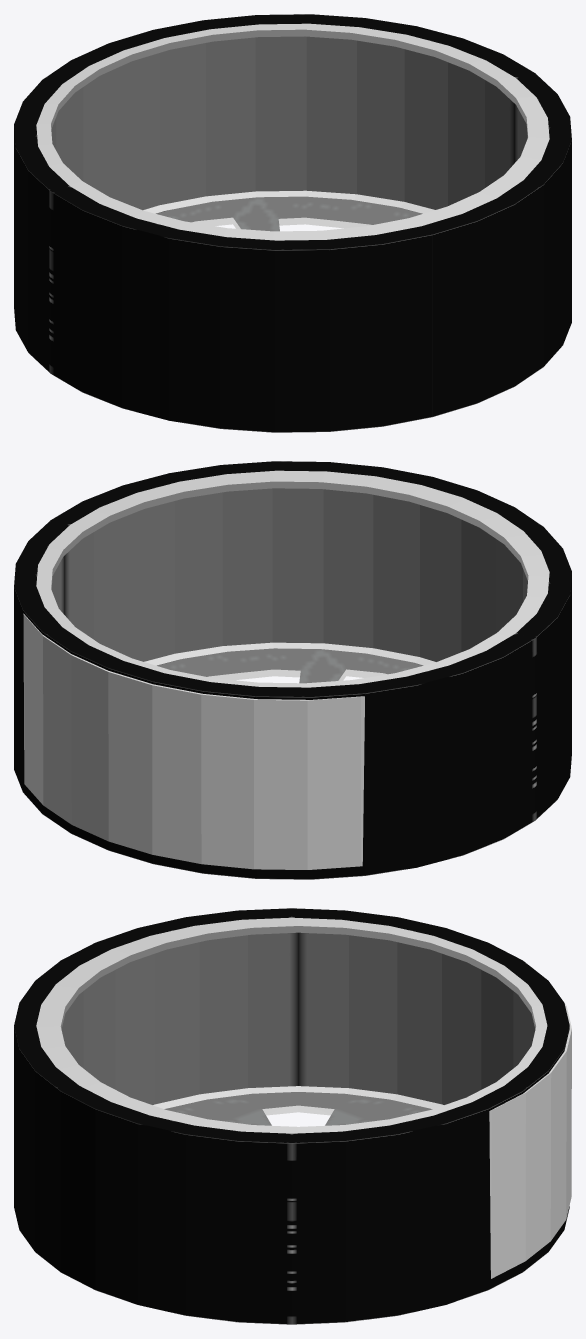
File: Picanto-tire.fbx
3 renders of one model, top to bottom at view 1: azimuth 30°, elevation 25°; view 2: azimuth 150°, elevation 25°; view 3: azimuth 270°, elevation 25°, orthographic.
Parts seen in each view (by area): view 1: Cylinder.005, Cylinder.006; view 2: Cylinder.006, Cylinder.005; view 3: Cylinder.005, Cylinder.006.
Part boxes in pixels (box(x1,y1,x2,y2)): Cylinder.005: box(14, 14, 571, 432); Cylinder.006: box(36, 23, 549, 240); Cylinder.006: box(23, 470, 549, 869); Cylinder.005: box(14, 461, 571, 879); Cylinder.005: box(14, 908, 569, 1324); Cylinder.006: box(36, 917, 571, 1278).
Size of the model in its own units: 211 by 76.23 by 212.
